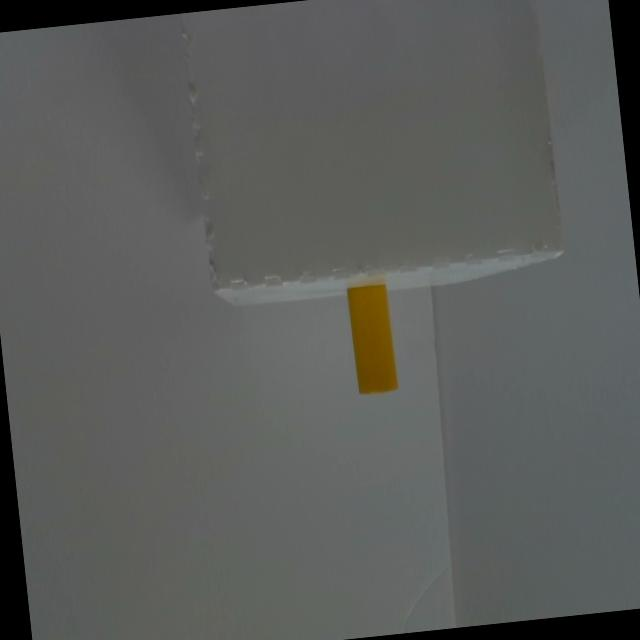yellow_cylinder: (348, 284, 397, 393)
